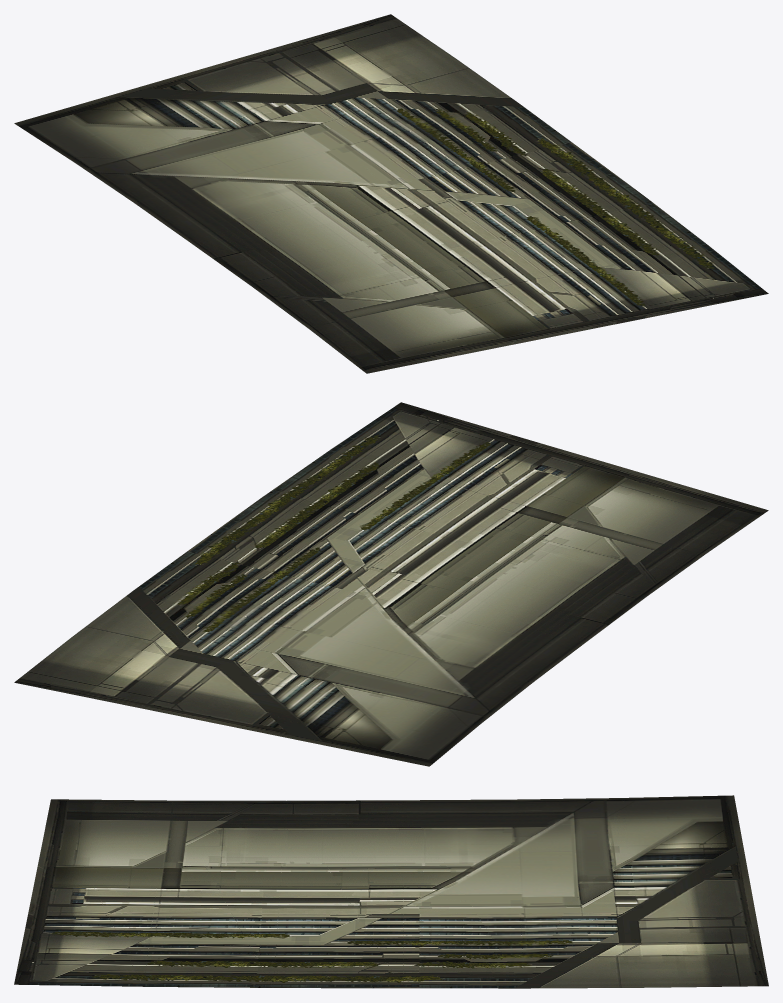
File: presidium_card02.FBX
3 views of the same model, one above another, from view 1: azimuth 30°, elevation 25°; view 2: azimuth 150°, elevation 25°; view 3: azimuth 270°, elevation 25° (orthographic).
Parts seen in each view (by area): view 1: presidium_card02; view 2: presidium_card02; view 3: presidium_card02.
Boxes of the visible parts, left/top/right/bottom form: presidium_card02: left=14, top=14, right=768, bottom=373; presidium_card02: left=14, top=402, right=768, bottom=766; presidium_card02: left=14, top=795, right=768, bottom=988.
Size of the model in its own units: 191 by 1e-06 by 315.
